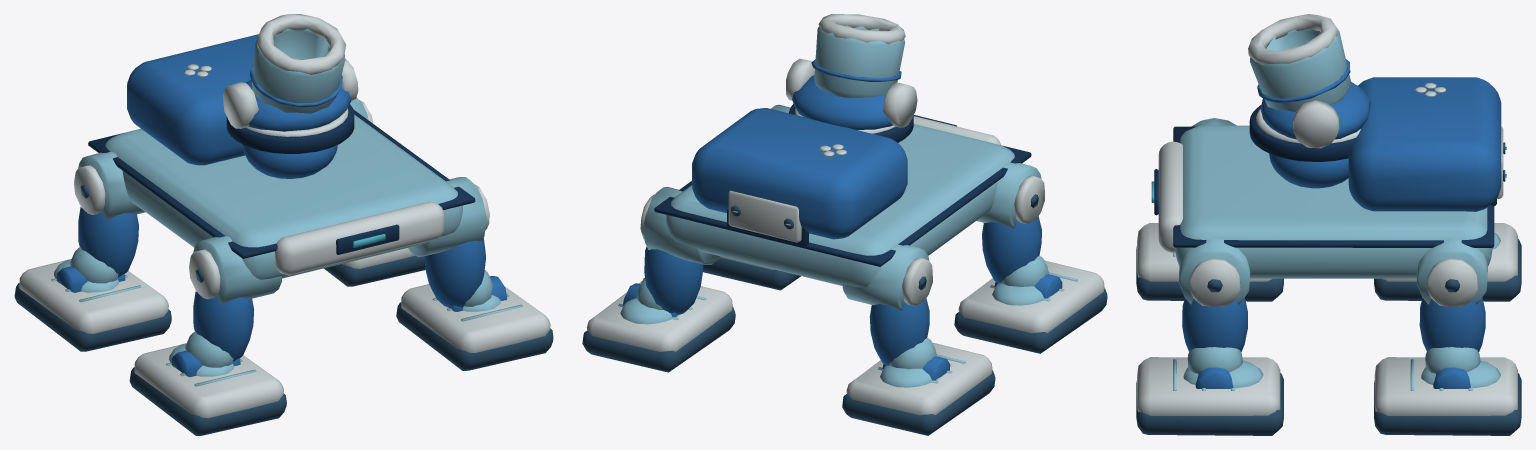
The model's file is TOY_BRIGADIER.lo.glb.
3 views of the same model, side by side, from view 1: azimuth 30°, elevation 25°; view 2: azimuth 150°, elevation 25°; view 3: azimuth 270°, elevation 25° (orthographic). The views are drawn at different scales.
Parts seen in each view (by area): view 1: Body, Mortar, Foot_FL, Foot_BL, Foot_FR, Leg_FL, Leg_BL, Leg_FR, Foot_BR; view 2: Body, Mortar, Foot_BL, Foot_FL, Foot_BR, Leg_BL, Leg_FL, Leg_BR, Foot_FR; view 3: Body, Mortar, Foot_BR, Foot_FR, Leg_FR, Leg_BR, Foot_FL, Foot_BL.
Boxes of the visible parts, left/top/right/bottom form: Body: left=88, top=34, right=475, bottom=279; Mortar: left=223, top=14, right=358, bottom=131; Foot_FL: left=129, top=343, right=286, bottom=435; Foot_BL: left=14, top=259, right=171, bottom=351; Foot_FR: left=396, top=275, right=553, bottom=370; Leg_FL: left=185, top=236, right=281, bottom=367; Leg_BL: left=70, top=152, right=145, bottom=283; Leg_FR: left=408, top=177, right=493, bottom=307; Foot_BR: left=324, top=248, right=425, bottom=286; Body: left=654, top=104, right=1031, bottom=287; Mortar: left=786, top=14, right=917, bottom=129; Foot_BL: left=842, top=342, right=995, bottom=435; Foot_FL: left=954, top=260, right=1107, bottom=353; Foot_BR: left=582, top=281, right=735, bottom=372; Leg_BL: left=842, top=244, right=936, bottom=369; Leg_FL: left=976, top=162, right=1048, bottom=286; Leg_BR: left=636, top=187, right=720, bottom=314; Foot_FR: left=703, top=256, right=800, bottom=290; Body: left=1151, top=77, right=1506, bottom=278; Mortar: left=1248, top=14, right=1370, bottom=148; Foot_BR: left=1374, top=357, right=1521, bottom=435; Foot_FR: left=1136, top=357, right=1283, bottom=435; Leg_FR: left=1179, top=238, right=1250, bottom=373; Leg_BR: left=1416, top=238, right=1487, bottom=373; Foot_FL: left=1136, top=223, right=1283, bottom=301; Foot_BL: left=1374, top=223, right=1521, bottom=301.
Size of the model in its own units: 3.13 by 2.58 by 2.79.
